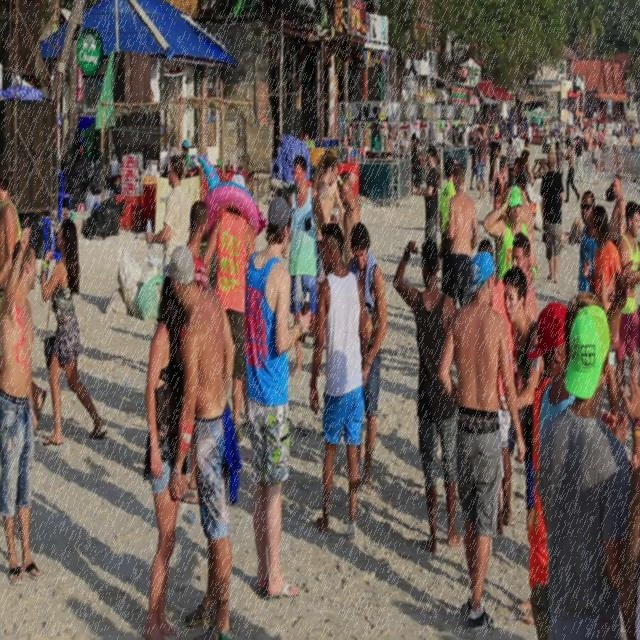pessoa: (435, 245, 527, 635), (161, 241, 245, 639), (537, 302, 634, 638), (241, 191, 319, 608), (390, 234, 468, 556), (536, 289, 628, 539), (308, 222, 370, 542), (0, 220, 48, 587), (38, 216, 109, 448), (526, 301, 574, 639), (202, 170, 258, 447), (144, 260, 184, 639), (344, 220, 390, 495), (501, 264, 545, 530), (477, 236, 515, 536), (279, 153, 326, 379), (582, 202, 624, 420), (144, 152, 194, 283), (482, 184, 540, 286), (440, 160, 479, 310), (615, 200, 639, 395), (538, 147, 568, 286), (311, 152, 341, 288), (0, 158, 22, 318), (437, 154, 458, 294), (510, 230, 540, 326), (414, 142, 440, 250), (336, 168, 362, 268), (322, 147, 346, 240), (184, 197, 210, 280), (578, 190, 596, 294), (514, 169, 535, 243), (228, 160, 246, 246), (560, 136, 582, 204), (608, 172, 628, 244), (488, 140, 508, 206), (473, 122, 489, 200), (497, 101, 528, 138), (572, 94, 600, 134), (158, 129, 180, 179), (620, 372, 640, 423), (486, 131, 499, 192), (410, 131, 422, 197), (609, 108, 637, 136), (470, 102, 498, 130), (402, 101, 428, 131), (412, 134, 424, 192), (468, 136, 480, 192), (492, 141, 504, 195), (519, 147, 536, 185), (589, 134, 601, 187), (493, 153, 508, 194), (573, 133, 585, 184), (522, 134, 534, 184), (554, 141, 565, 195), (438, 102, 466, 122), (200, 144, 223, 168), (506, 136, 518, 171), (180, 138, 192, 170), (508, 156, 520, 187), (610, 129, 618, 163), (402, 128, 409, 160), (542, 120, 550, 147), (442, 118, 450, 144), (225, 158, 238, 174), (551, 122, 558, 150), (461, 126, 469, 150), (456, 118, 464, 142), (602, 122, 608, 154), (542, 126, 548, 154), (630, 130, 636, 158), (586, 132, 592, 159), (564, 121, 571, 144), (526, 118, 532, 144), (538, 121, 544, 144), (568, 122, 574, 144), (452, 126, 458, 146), (598, 126, 602, 154), (532, 122, 538, 132)
